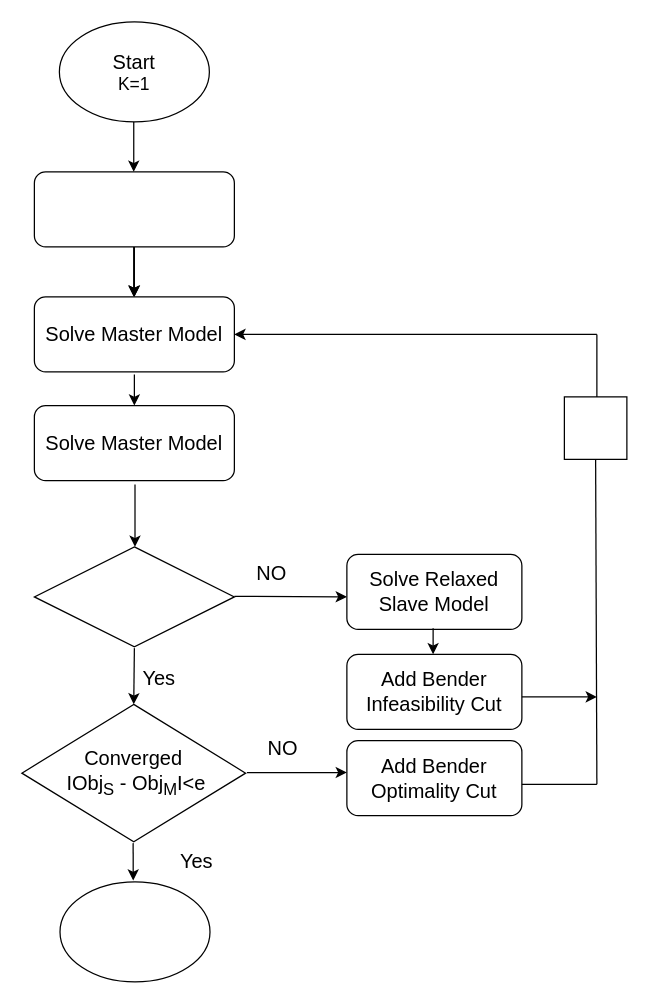
Some shapes in this 649 by 1004 pixel diagram are drawn without their labels. Each missing label, with the box of its shape:
END: (59, 881, 210, 982)
Find Initial State of Switches: (33, 171, 234, 247)
Is Feasible?: (33, 546, 234, 647)
K=K+1: (563, 396, 627, 459)
